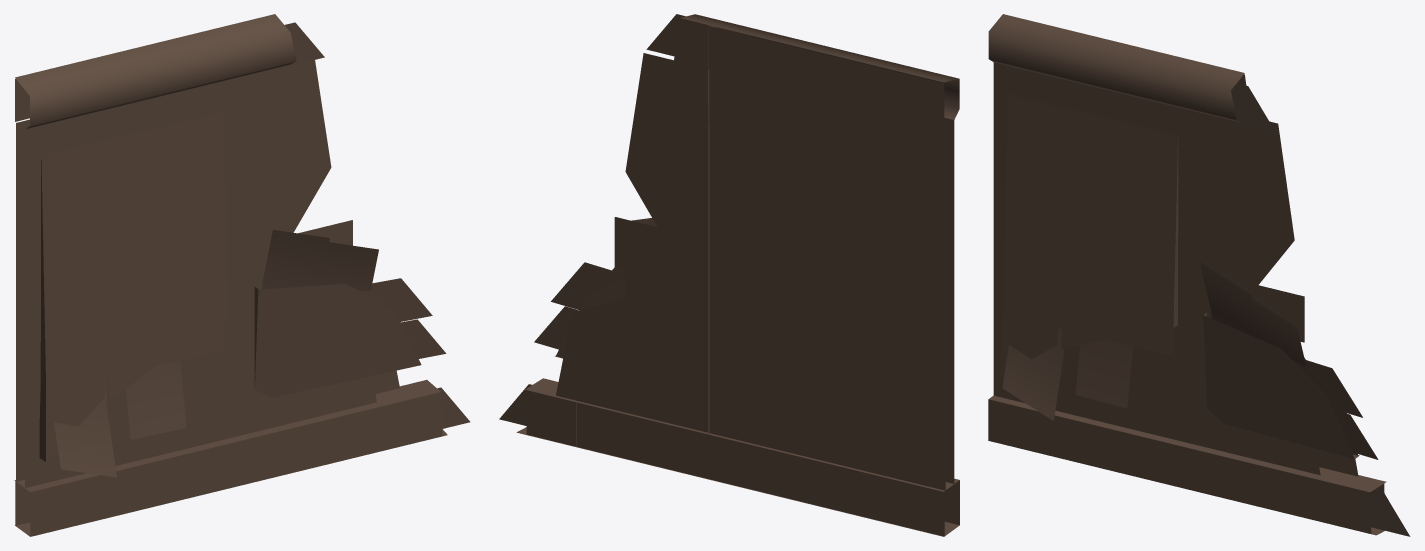
The model's file is DBK_Molding_Bottom_Side_D.fbx.
The picture shows the model from 3 angles, left to right: view 1: azimuth 30°, elevation 25°; view 2: azimuth 150°, elevation 25°; view 3: azimuth 330°, elevation 25°; orthographic projection. The views are drawn at different scales.
Parts seen in each view (by area): view 1: DBK_Molding_Bottom_Side_D; view 2: DBK_Molding_Bottom_Side_D; view 3: DBK_Molding_Bottom_Side_D.
Boxes of the visible parts, x1,y1,x2,y2 form: DBK_Molding_Bottom_Side_D: [14, 14, 470, 536]; DBK_Molding_Bottom_Side_D: [499, 14, 959, 536]; DBK_Molding_Bottom_Side_D: [988, 14, 1410, 536].
Size of the model in its own units: 105 by 100 by 9.92.
